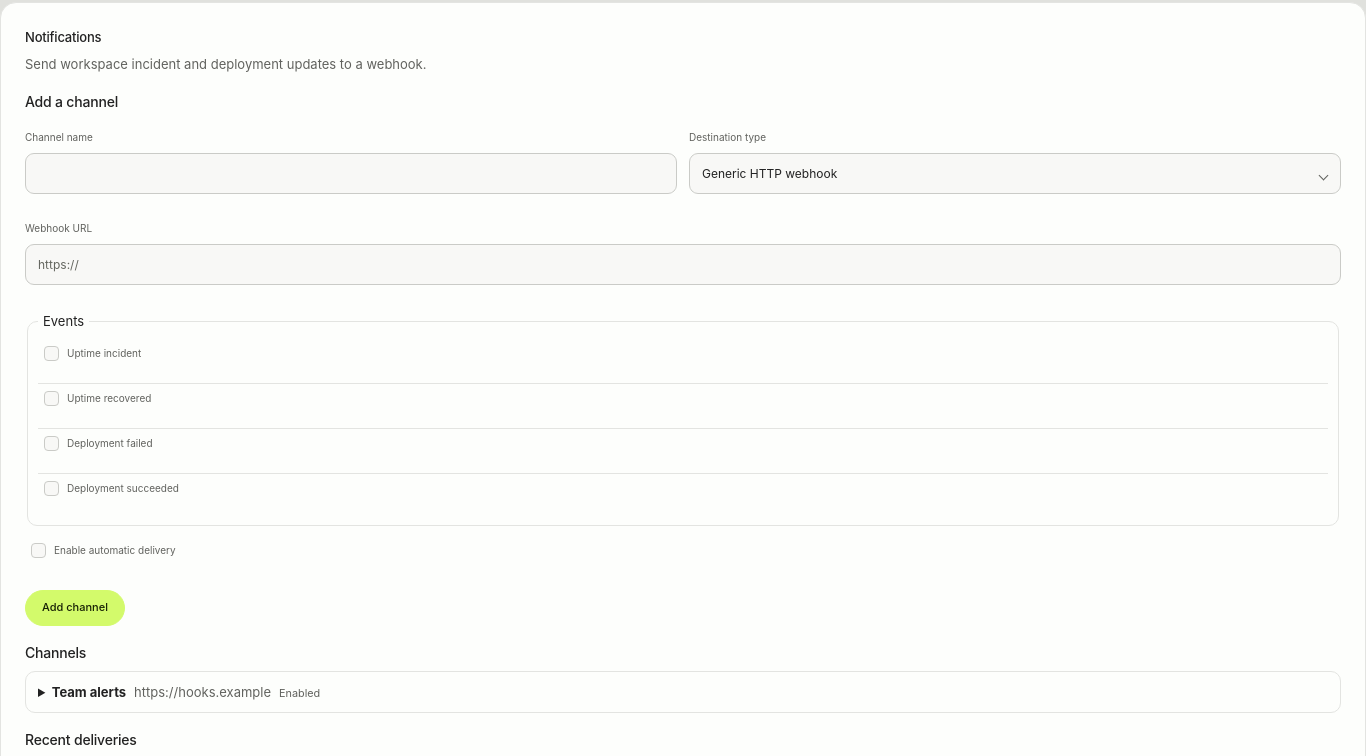
Scenario: edits, tests and deletes a masked channel and shows live delivery results
Later steps or results of the test are not shown.
Click the text "Team alerts". click: point(89, 692)
box: x1=52 y1=684 x2=126 y2=700
(page scrolled)
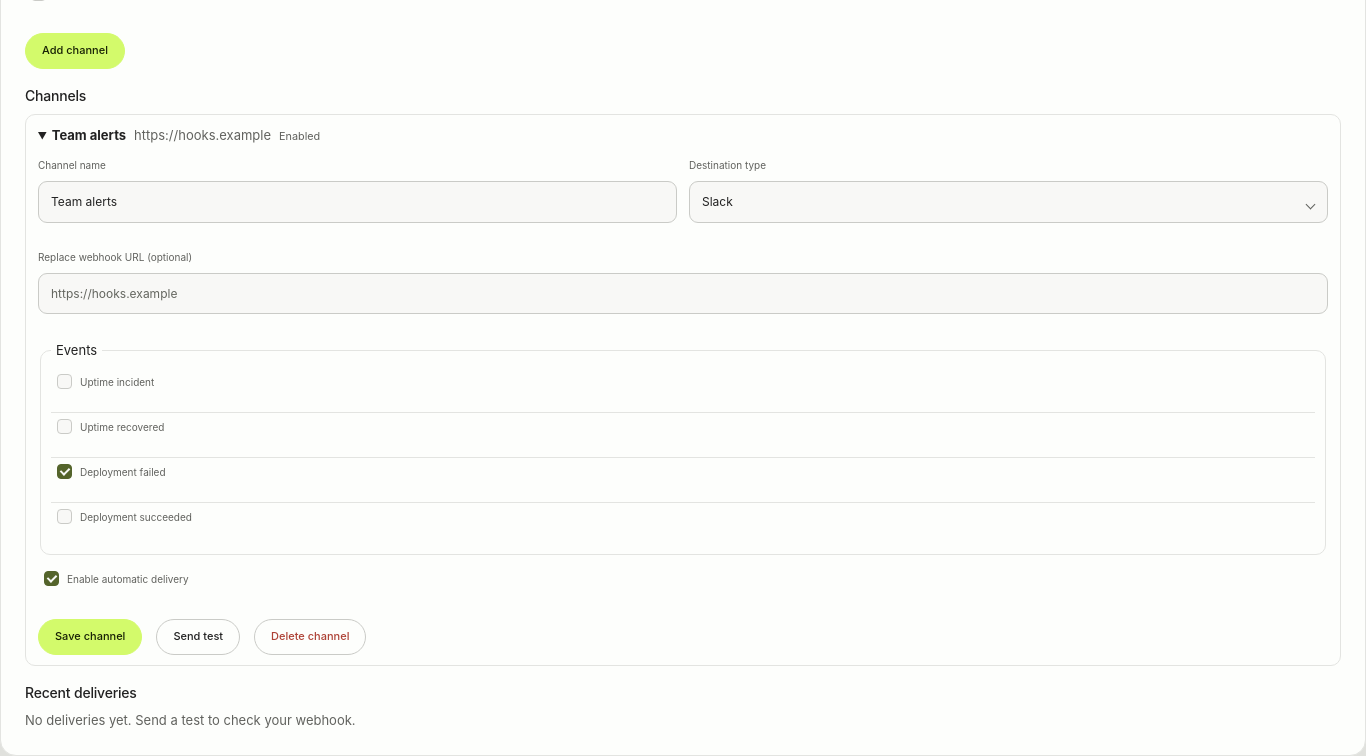
Check: the text "https://hooks.example" is shown, box x1=134 y1=126 x2=271 y2=142
Check: the password field labelled "Replace webhook URL (optional)" is empty, box x1=38 y1=272 x2=1328 y2=314
